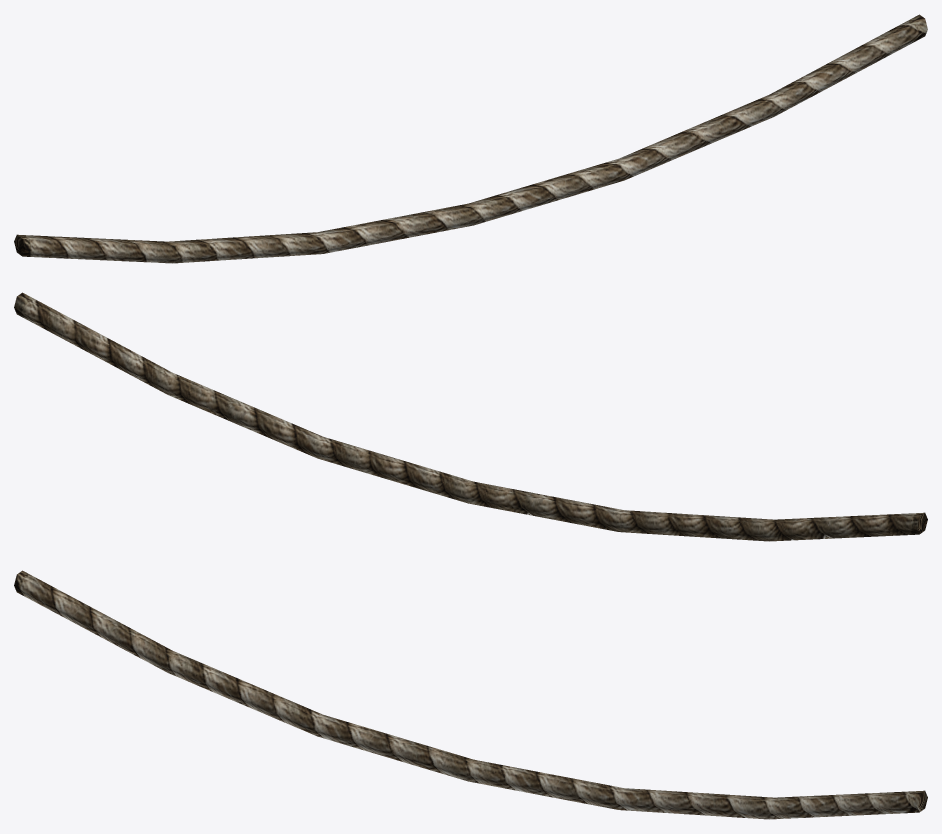
File: rope.fbx
3 renders of one model, top to bottom at view 1: azimuth 30°, elevation 25°; view 2: azimuth 150°, elevation 25°; view 3: azimuth 330°, elevation 25°, orthographic.
Visible parts, largest first — view 1: Cylinder_021; view 2: Cylinder_021; view 3: Cylinder_021.
Boxes of the visible parts, x1,y1,x2,y2 form: Cylinder_021: (14,14,927,263); Cylinder_021: (14,292,927,541); Cylinder_021: (14,570,927,819).
Bounding box in the file's own units: 21.51 × 2.2 × 0.4663.
1 material, 1 textured.
